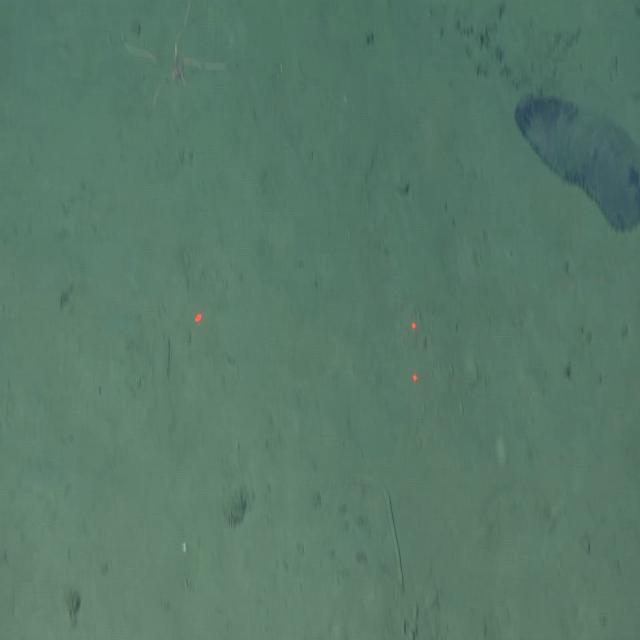Brittle Star: (114, 6, 231, 123)
